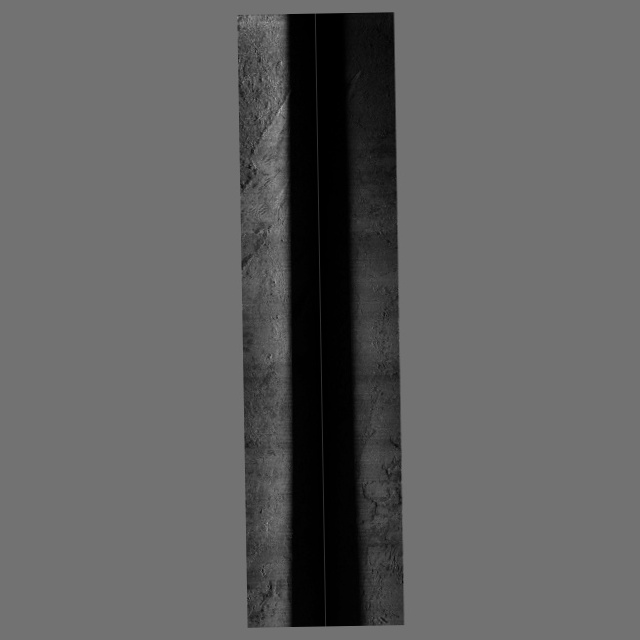Shipwreck: (344, 69, 385, 624)
